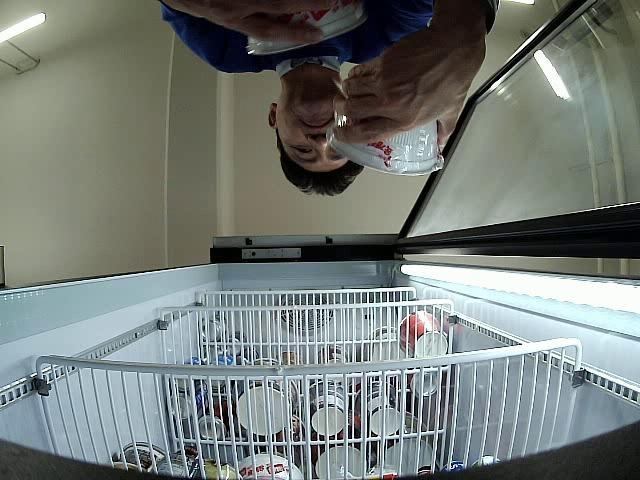09_yukGaeJang: (248, 0, 368, 56), (329, 119, 446, 172)
